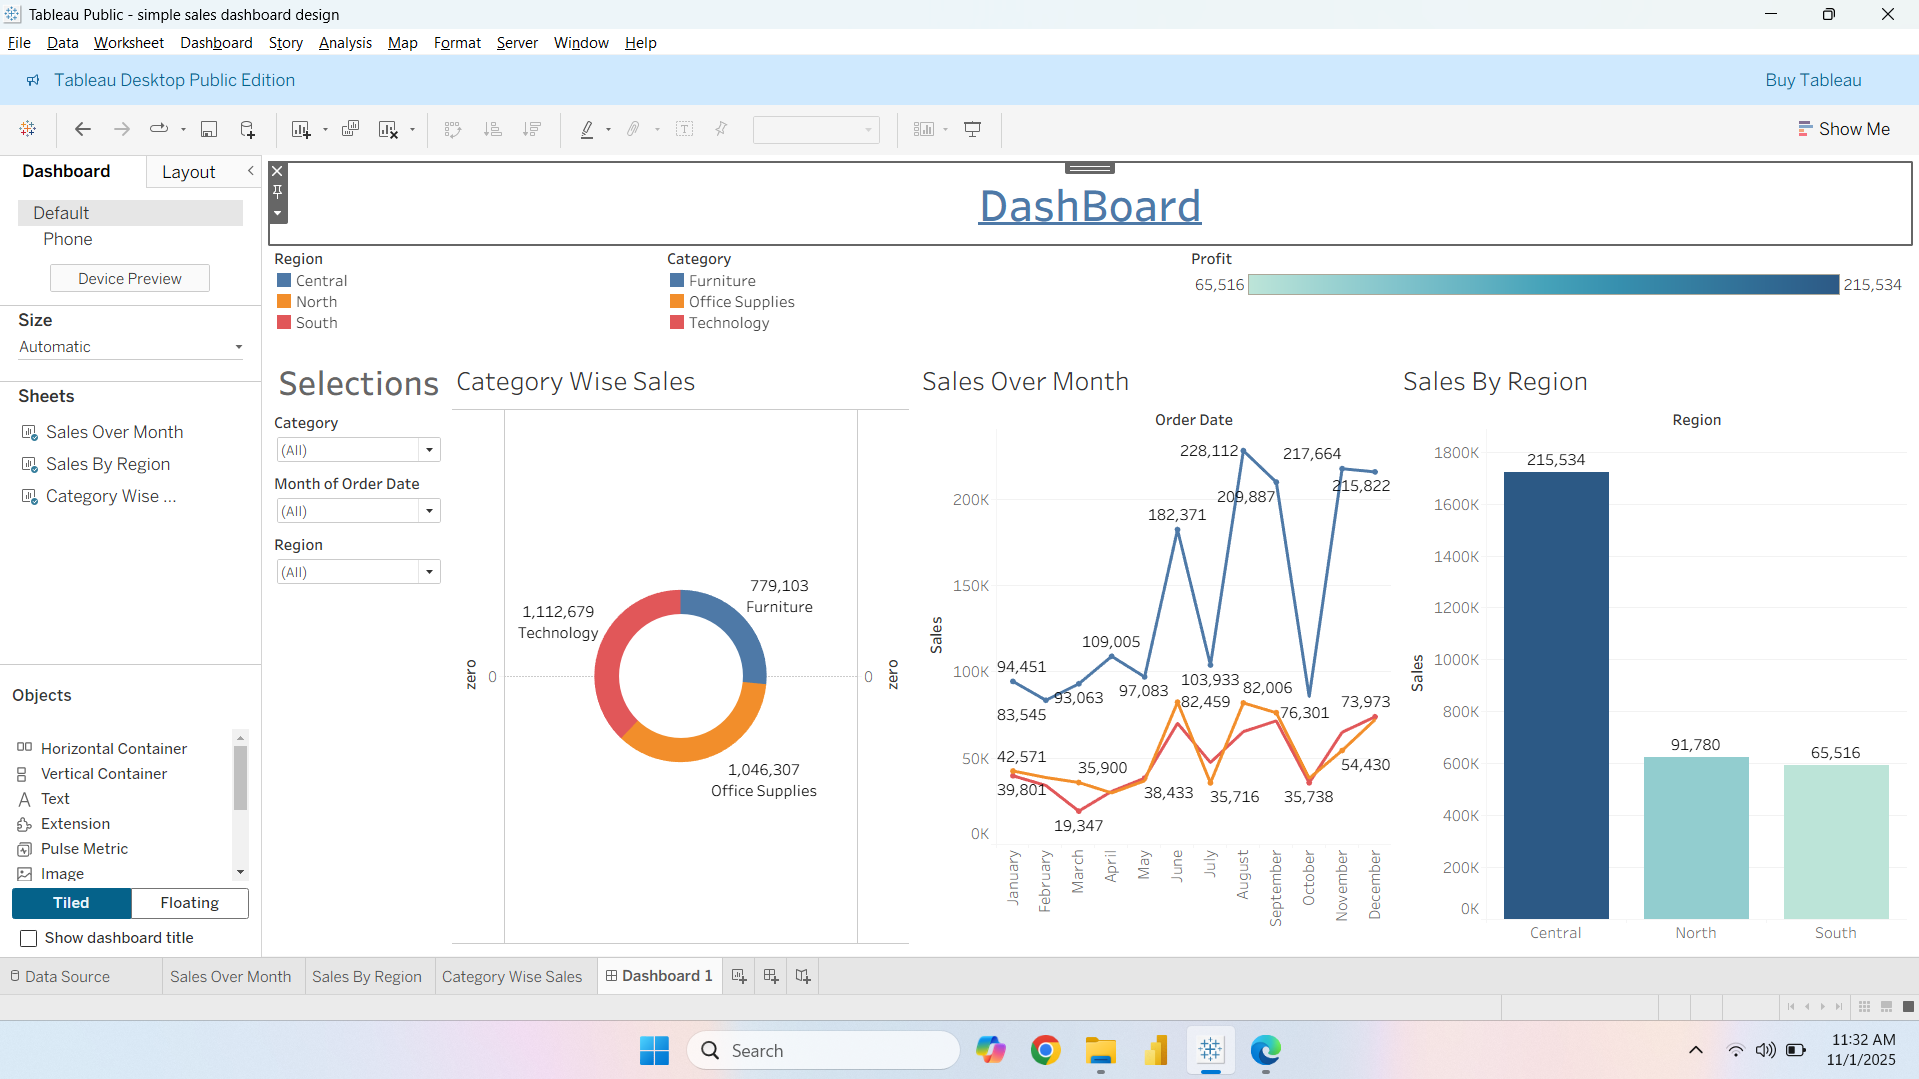

What the dashboard file says about the page in this screenshot:
{"tool":"tableau","page":{"name":"Dashboard 1","canvas":[1000,1000],"units":"permille","ordinal":0},"visuals":[{"type":"text","box":[4.8,10,990.3,101.1]},{"type":"legend","title":"Sales Over Month","param":"[federated.1ds9syq0nzsupf1gww2km01ah2ve].[none:Region:nk]","box":[4.8,111.1,237.2,138.6]},{"type":"legend","title":"Category Wise Sales","param":"[federated.1ds9syq0nzsupf1gww2km01ah2ve].[none:Category:nk]","box":[242,111.1,316.2,138.6]},{"type":"legend","title":"Sales By Region","param":"[federated.1ds9syq0nzsupf1gww2km01ah2ve].[sum:Profit:qk]","box":[558.2,111.1,436.9,138.6]},{"type":"text","box":[4.8,249.7,107.4,66.2]},{"type":"worksheet","title":"Category Wise Sales","mark":"Automatic","rows":["Calculation_1014717292550303744","Calculation_1014717292550303744"],"box":[112.2,249.7,281.2,740.3]},{"type":"worksheet","title":"Sales Over Month","mark":"Automatic","rows":["Sales"],"cols":["Order Date"],"box":[393.5,249.7,290.2,740.3]},{"type":"worksheet","title":"Sales By Region","mark":"Automatic","rows":["Sales"],"cols":["Region"],"box":[683.8,249.7,311.4,740.3]},{"type":"filter","title":"Category Wise Sales","param":"[federated.1ds9syq0nzsupf1gww2km01ah2ve].[none:Category:nk]","box":[4.8,315.9,107.4,76.2]},{"type":"filter","title":"Sales Over Month","param":"[federated.1ds9syq0nzsupf1gww2km01ah2ve].[mn:Order Date:ok]","box":[4.8,392,107.4,76.2]},{"type":"filter","title":"Sales By Region","param":"[federated.1ds9syq0nzsupf1gww2km01ah2ve].[none:Region:nk]","box":[4.8,468.2,107.4,76.2]}]}

Visuals, with their boxes on the dashboard's canvas, which has no fixed pixel size, in thousandths of its width and height (x1, y1, x2, y2). These are canvas units, not pixel positions in the 1919x1079 screenshot, which may show the page scaled, cropped or inside an application window:
text: (x1=5, y1=10, x2=995, y2=111)
"Sales Over Month" legend: (x1=5, y1=111, x2=242, y2=250)
"Category Wise Sales" legend: (x1=242, y1=111, x2=558, y2=250)
"Sales By Region" legend: (x1=558, y1=111, x2=995, y2=250)
text: (x1=5, y1=250, x2=112, y2=316)
"Category Wise Sales" worksheet: (x1=112, y1=250, x2=393, y2=990)
"Sales Over Month" worksheet: (x1=394, y1=250, x2=684, y2=990)
"Sales By Region" worksheet: (x1=684, y1=250, x2=995, y2=990)
"Category Wise Sales" filter: (x1=5, y1=316, x2=112, y2=392)
"Sales Over Month" filter: (x1=5, y1=392, x2=112, y2=468)
"Sales By Region" filter: (x1=5, y1=468, x2=112, y2=544)
